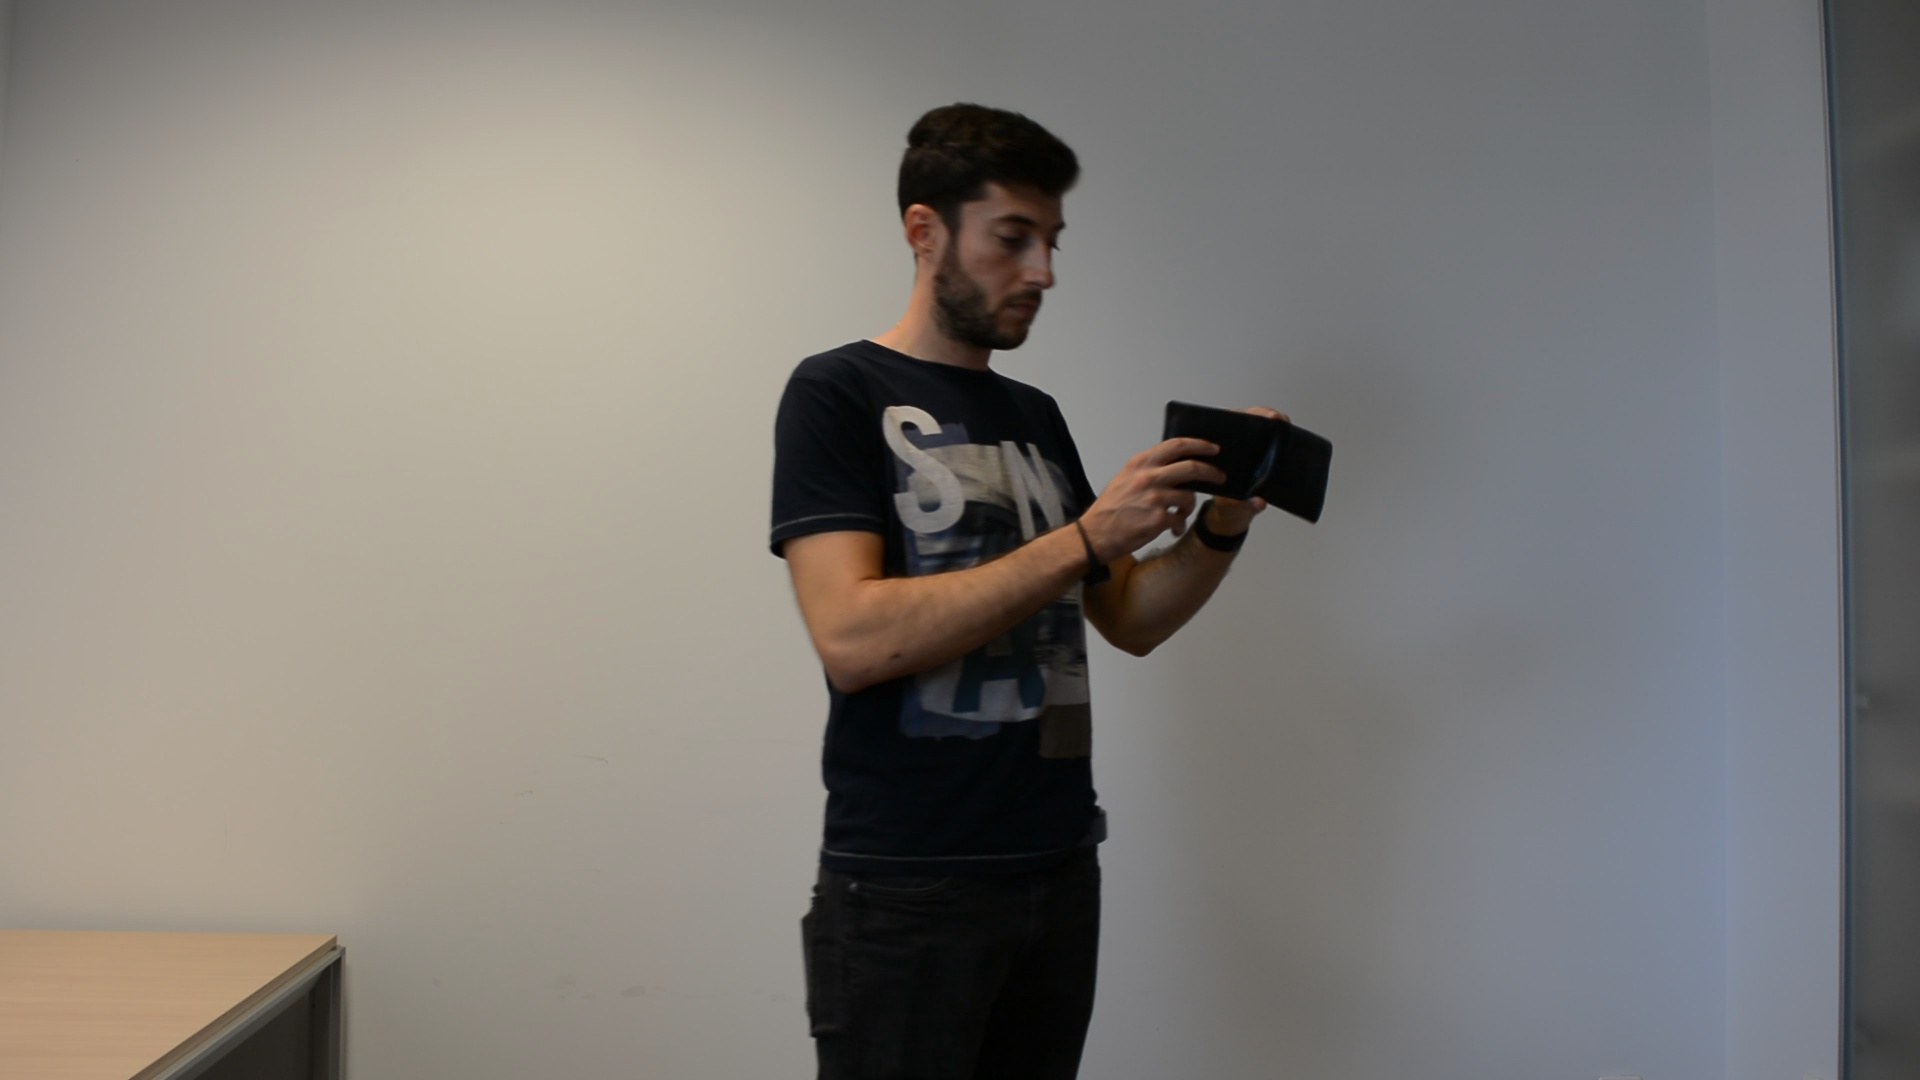monedero: (1155, 394, 1336, 527)
